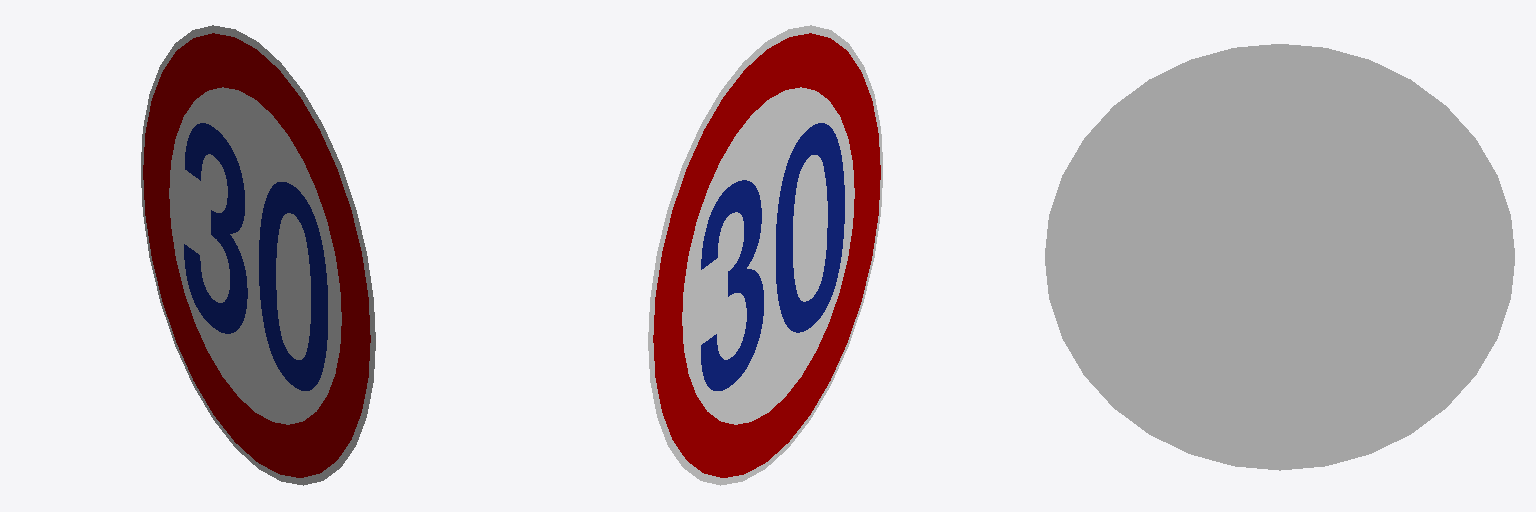
File: 30sign.obj
3 views of the same model, side by side, from view 1: azimuth 30°, elevation 25°; view 2: azimuth 150°, elevation 25°; view 3: azimuth 270°, elevation 25° (orthographic).
Visible parts, largest first — view 1: Circle.012, Circle.011, Text, Circle.013; view 2: Circle.012, Circle.011, Text, Circle.013; view 3: Circle.013.
Boxes of the visible parts, x1,y1,x2,y2 form: Circle.012: [143, 33, 370, 477]; Circle.011: [169, 87, 341, 424]; Text: [184, 123, 327, 390]; Circle.013: [141, 25, 375, 485]; Circle.012: [653, 33, 880, 477]; Circle.011: [682, 87, 854, 424]; Text: [701, 123, 844, 390]; Circle.013: [648, 25, 882, 485]; Circle.013: [1045, 44, 1514, 470].
Size of the model in its own units: 0.0067 by 0.6 by 0.6.